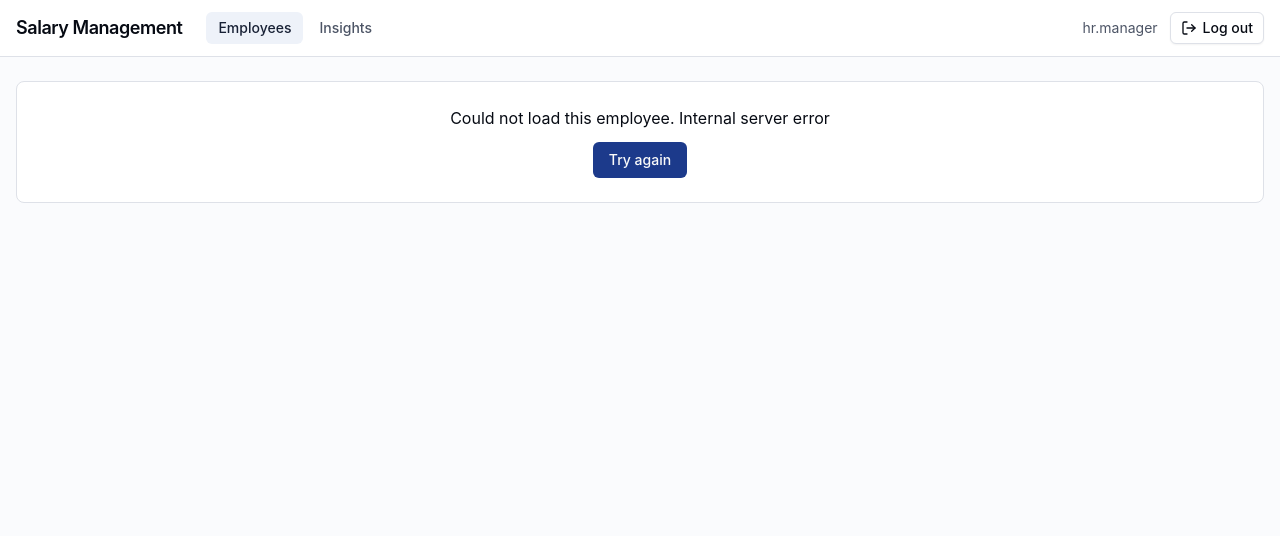
edit employee page › shows other load failures with the reason, and a retry that recovers
Expected: the message shows "Could not load this employee.", [450,108,679,128]
Expected: the message shows "Internal server error", [679,108,830,128]
What coordinates should you click on to do the following:
click the button "Try again"
I would click on:
 (640, 160)
Its box is [593,142,687,178].
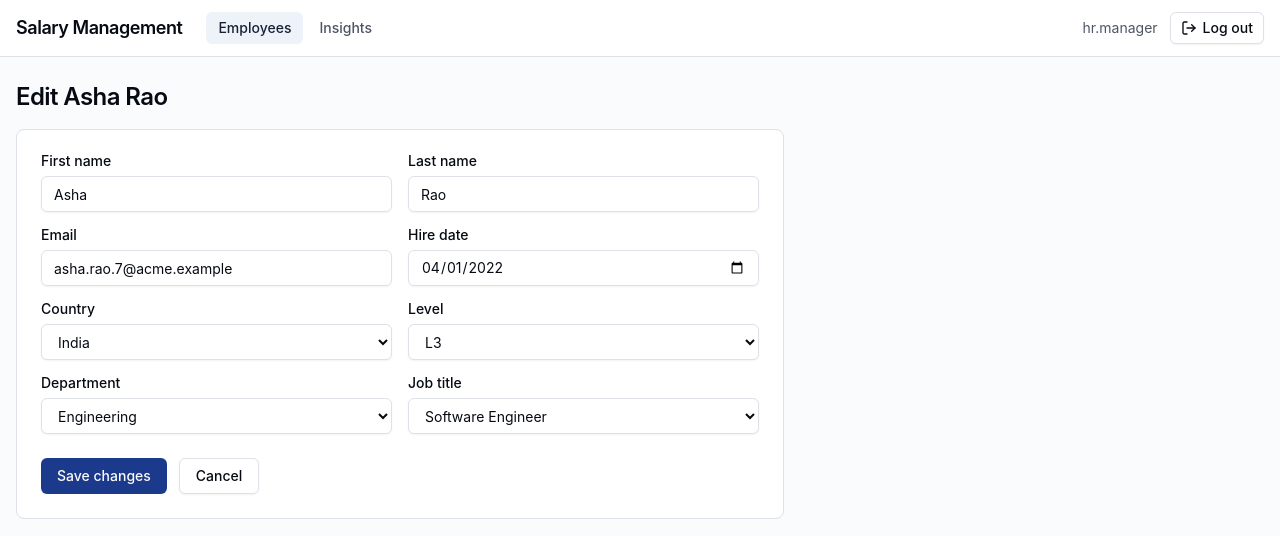
Now the heading "Edit Asha Rao" is shown, box [16,82,168,111]
